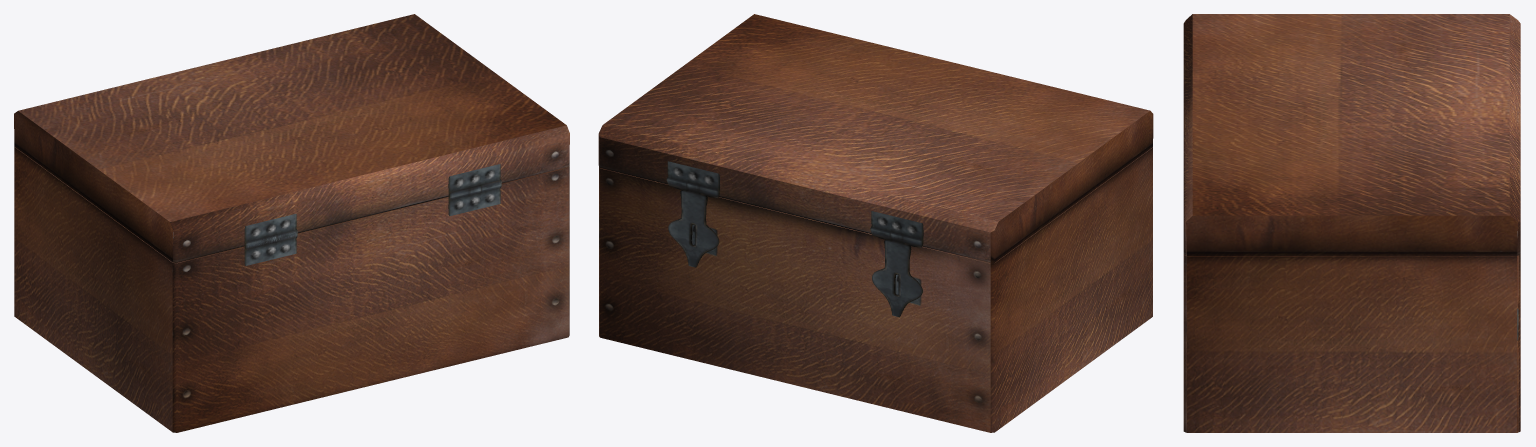
The model's file is CajaHerramientas.FBX.
3 views of the same model, side by side, from view 1: azimuth 30°, elevation 25°; view 2: azimuth 150°, elevation 25°; view 3: azimuth 270°, elevation 25° (orthographic). The views are drawn at different scales.
Parts seen in each view (by area): view 1: Toolbox, ToolboxB; view 2: Toolbox, ToolboxB; view 3: ToolboxB, Toolbox.
Part boxes in pixels (bbox=[...]): Toolbox: bbox=[14, 147, 569, 432]; ToolboxB: bbox=[14, 14, 569, 262]; Toolbox: bbox=[599, 147, 1152, 432]; ToolboxB: bbox=[598, 14, 1153, 317]; ToolboxB: bbox=[1183, 14, 1520, 255]; Toolbox: bbox=[1183, 254, 1520, 432].
Bounding box in the file's own units: 91.68 × 65.15 × 46.03.
Materials: 1 (1 with a texture image).
